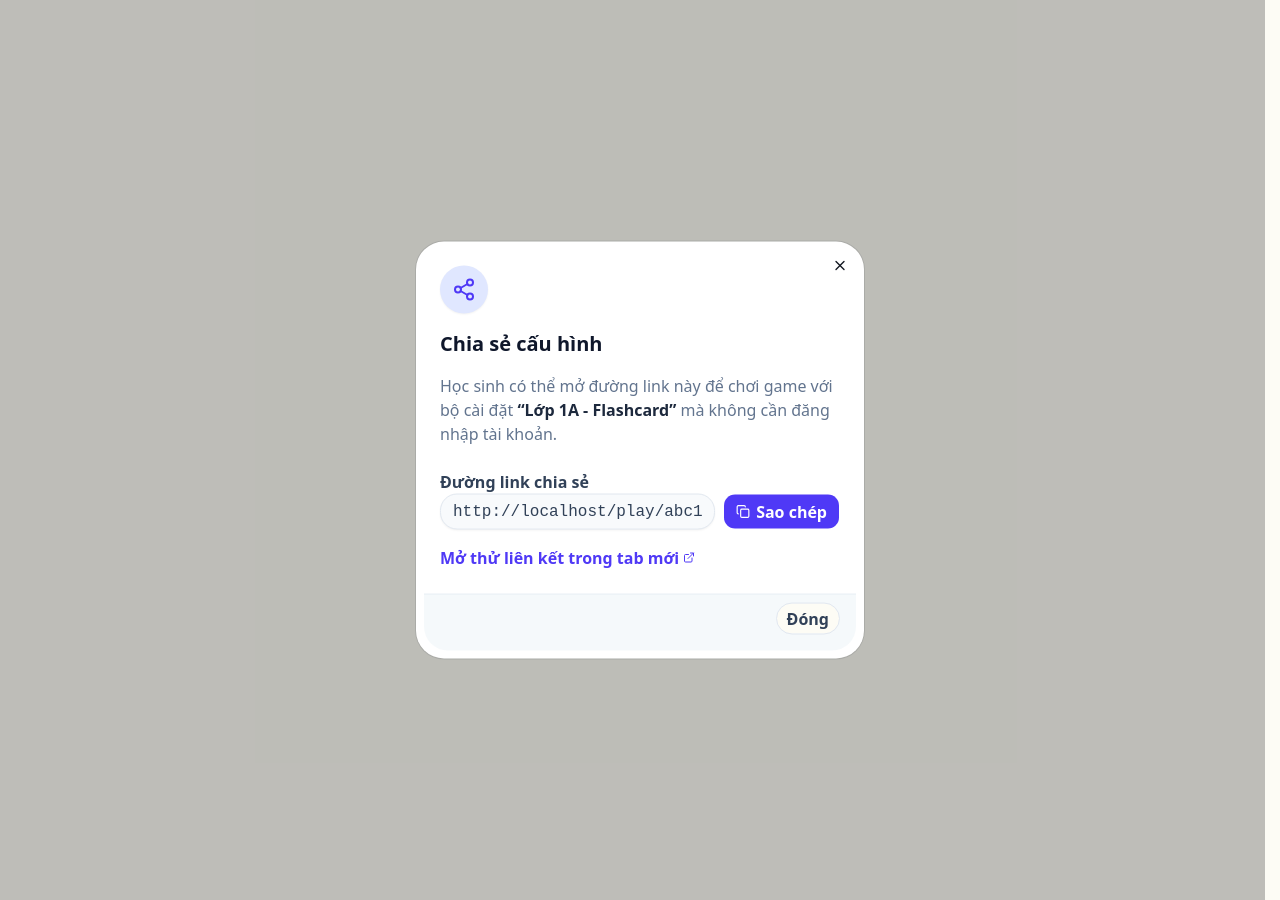
ShareDialog component (T036 / US4) › copies link to clipboard and shows feedback when user clicks Copy button
Click the button "Sao chép" at (782, 512), box [723, 494, 840, 530]
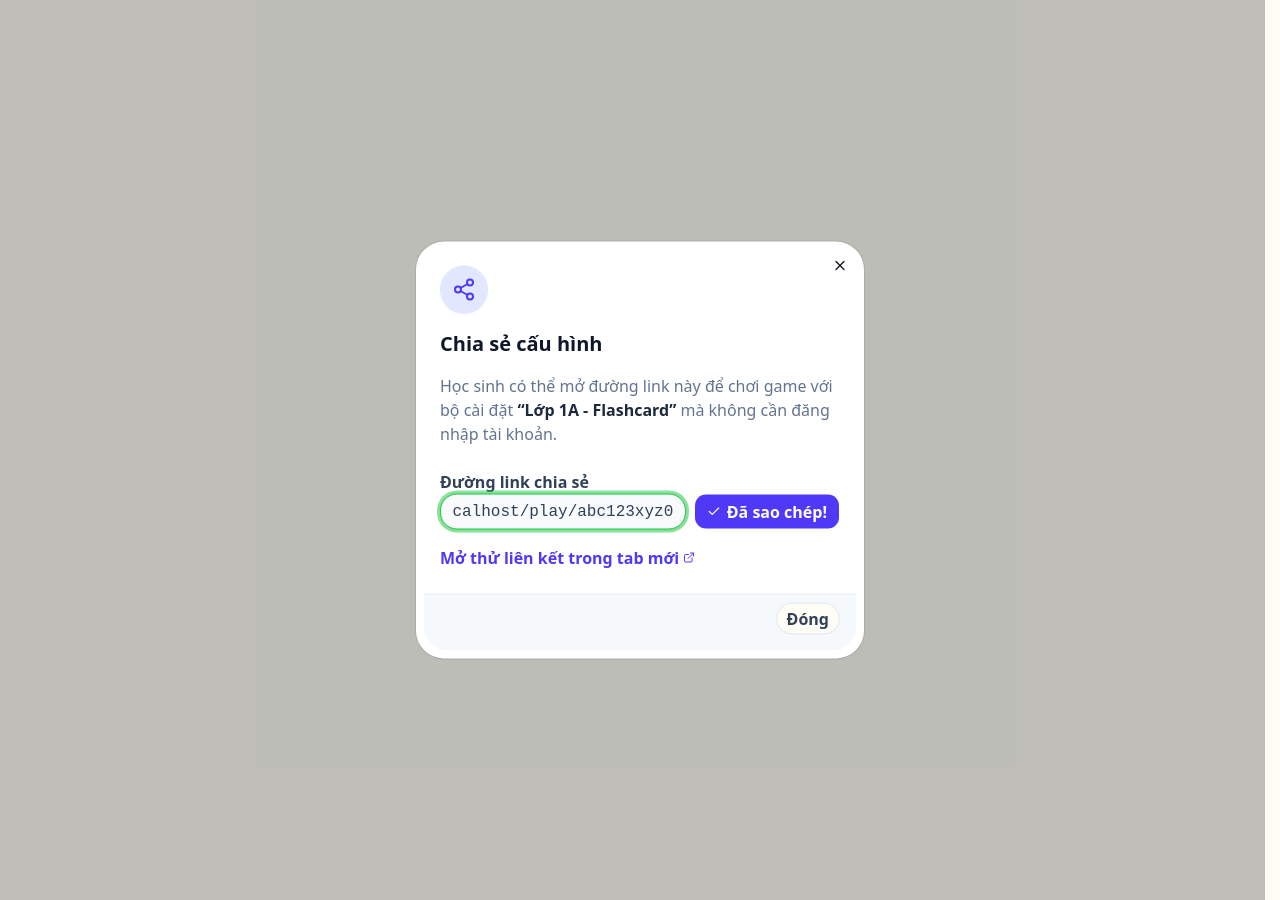
Expected: the text "Đã sao chép!" is shown, [727, 500, 827, 524]
